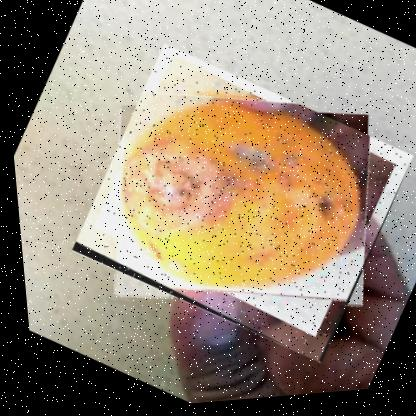orange_rotten: (49, 30, 415, 387)
